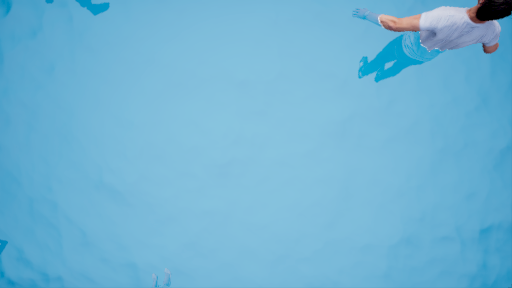person: (350, 2, 512, 92)
